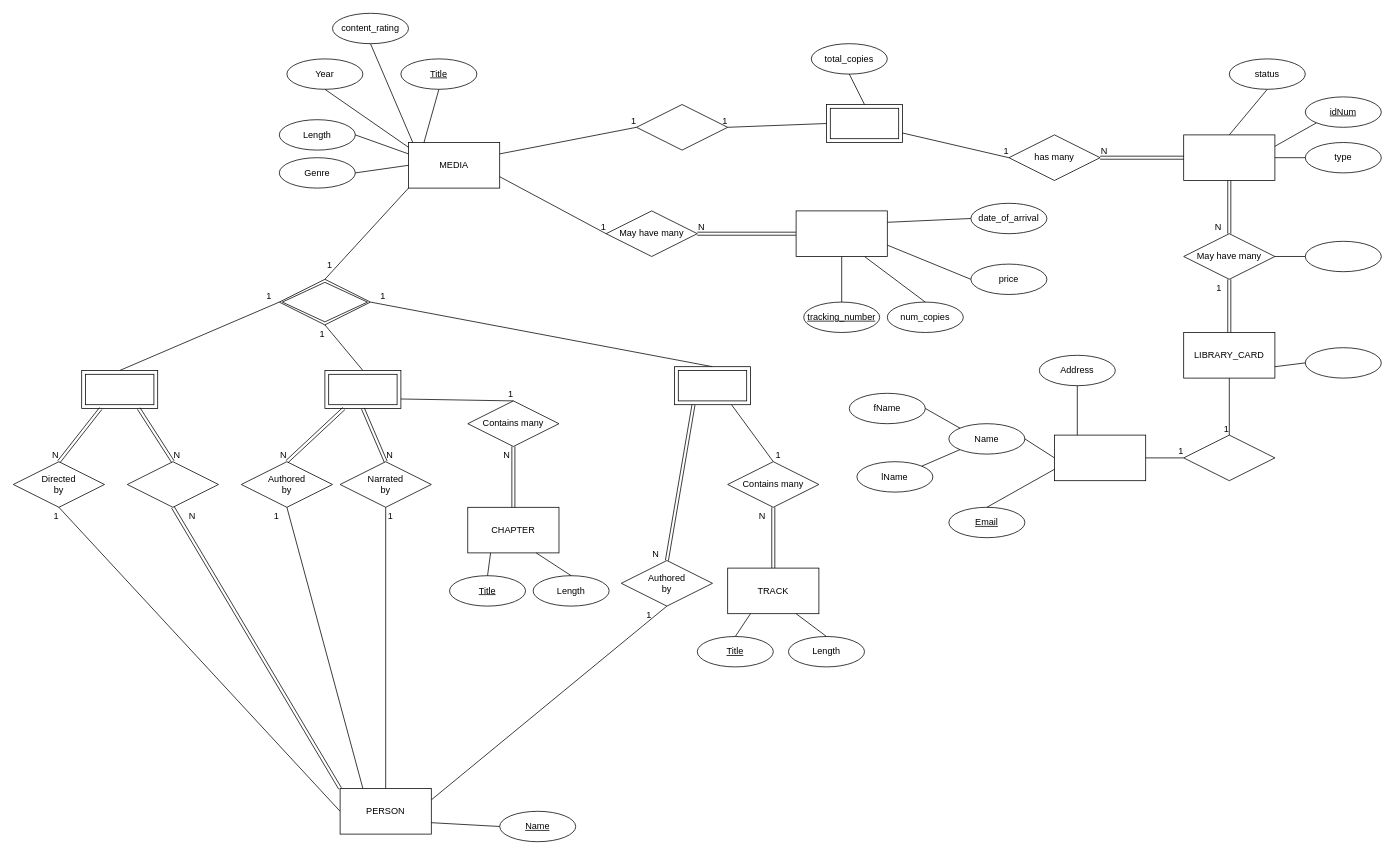
Image size: 1395x855. Some labels were removed from this diagram. Each missing label, with the centre of its shape:
"ALBUM" belongs at [712,385].
"AUDIOBOOK" belongs at [362,389].
"COPY" belongs at [1229,157].
"due_date" belongs at [1343,256].
"Generalization of" belongs at [324,302].
"has" belongs at [682,127].
"idCard" belongs at [1343,362].
"MOVIE" belongs at [119,389].
"ORDER" belongs at [841,233].
"Owns" belongs at [1229,457].
"PATRON" belongs at [1100,457].
"Starring" belongs at [172,484].
"STOCK" belongs at [864,123].
